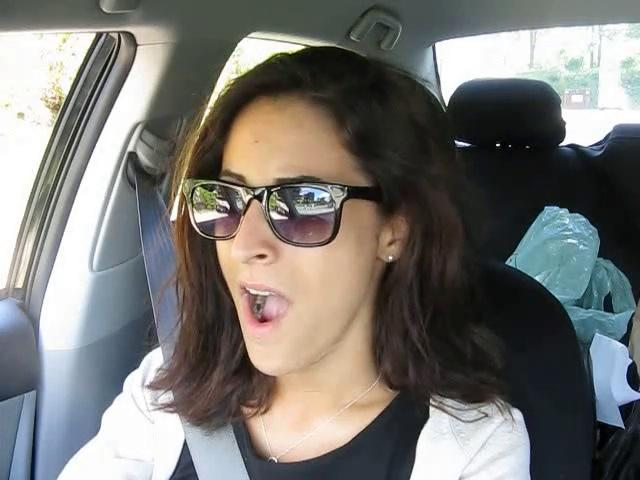yawn: (225, 278, 305, 337)
